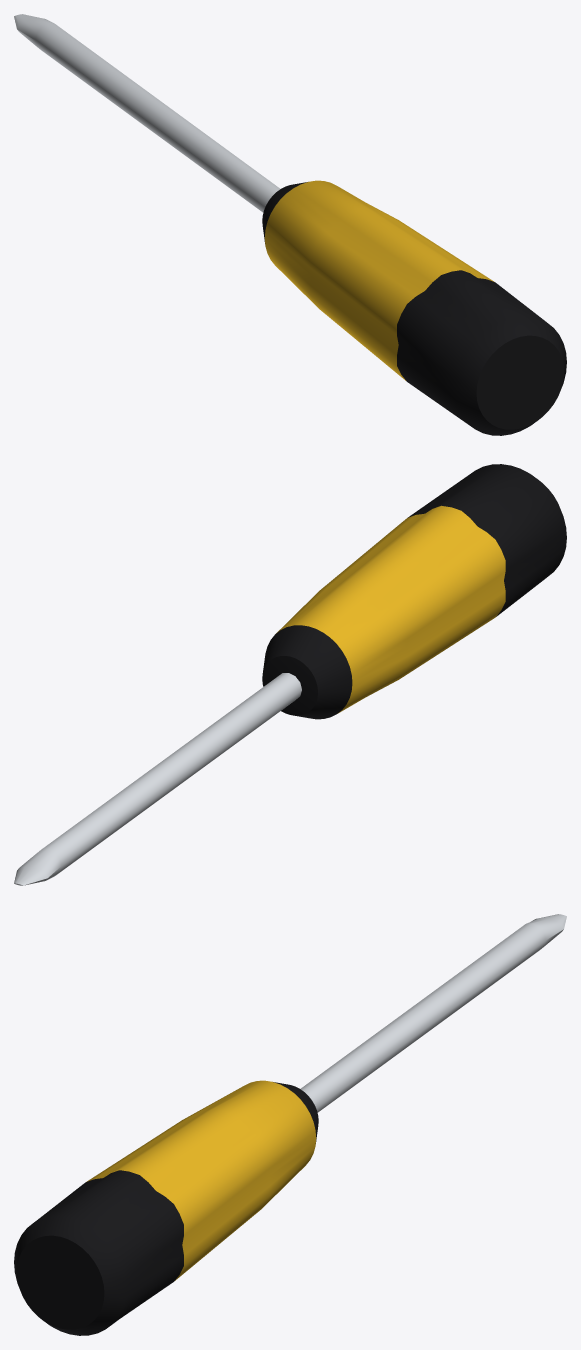
File: screwdriver.glb
3 views of the same model, one above another, from view 1: azimuth 30°, elevation 25°; view 2: azimuth 150°, elevation 25°; view 3: azimuth 330°, elevation 25° (orthographic).
Visible parts, largest first — view 1: screwdriver; view 2: screwdriver; view 3: screwdriver.
Boxes of the visible parts, x1=… form: screwdriver: x1=14, y1=14, x2=566, y2=435; screwdriver: x1=14, y1=464, x2=566, y2=885; screwdriver: x1=14, y1=914, x2=566, y2=1335.
Size of the model in its own units: 0.0308 by 0.0319 by 0.24.
